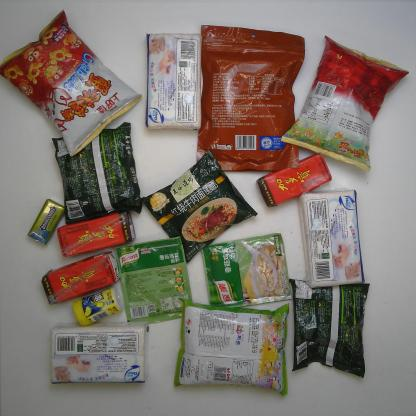Dried Food: (196, 22, 306, 172)
Drink: (40, 252, 122, 307), (255, 153, 333, 208), (56, 208, 136, 256)
Gum: (72, 285, 126, 328), (27, 196, 66, 245)
Instant Noodles: (139, 148, 259, 266), (50, 120, 144, 227), (287, 277, 370, 379)
Puffed Food: (0, 7, 142, 158), (281, 34, 409, 172), (172, 293, 290, 398)
Seasoner: (113, 235, 193, 325), (201, 232, 293, 309)
Tissue: (296, 187, 366, 291), (47, 320, 149, 387), (144, 29, 203, 134)
